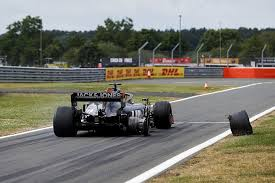FormulaOneCar: (49, 81, 183, 144)
